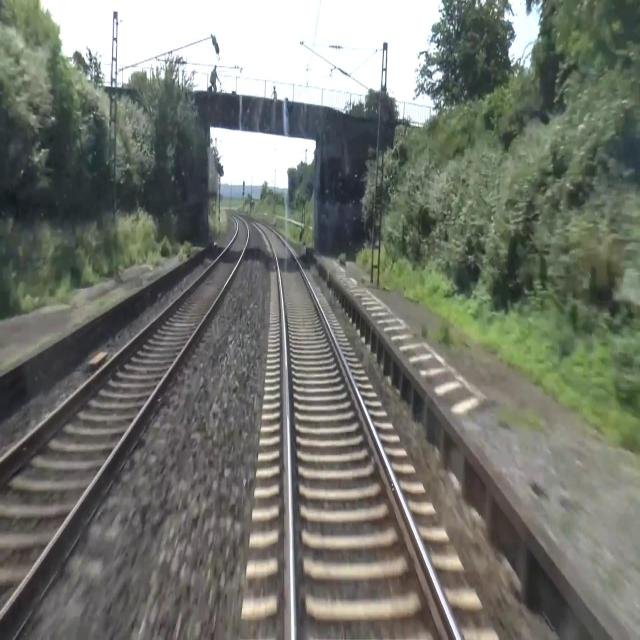rail-track: (0, 215, 247, 611), (241, 215, 457, 639)
